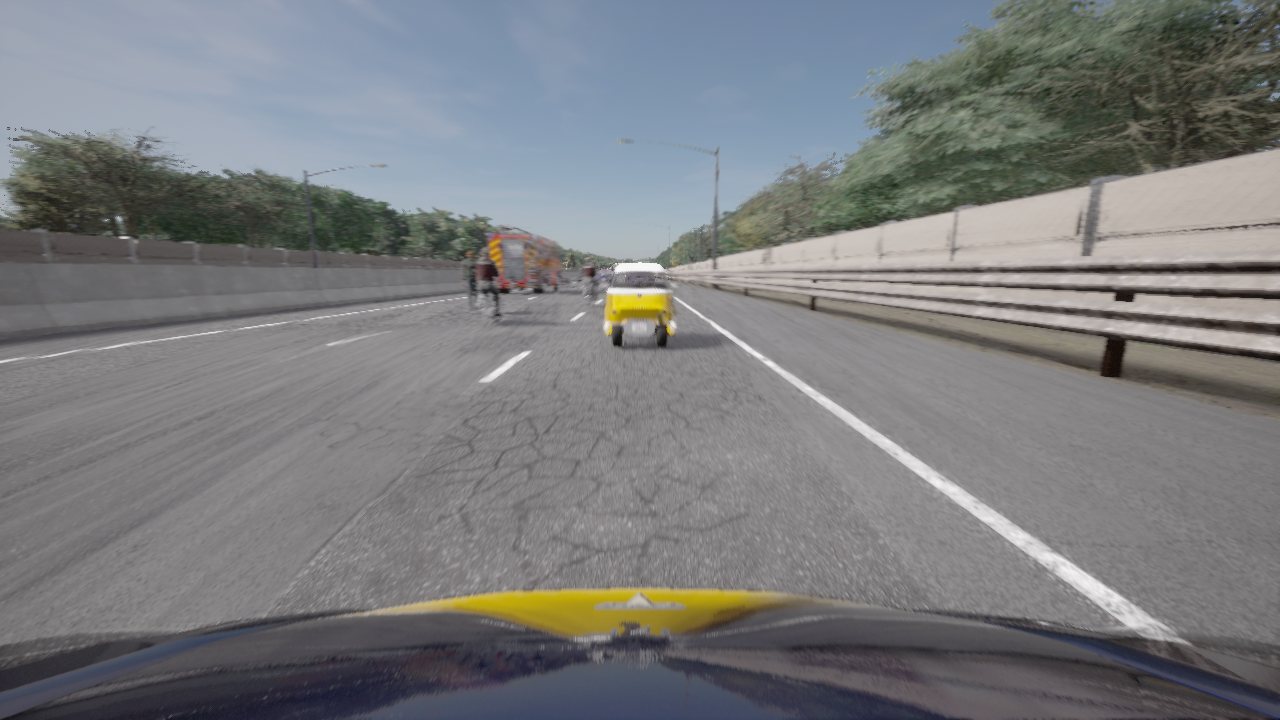cyclist: (0, 588, 1279, 719), (600, 264, 678, 347), (488, 225, 564, 293), (477, 282, 501, 326), (583, 285, 595, 307), (596, 272, 613, 281), (577, 274, 583, 282)
